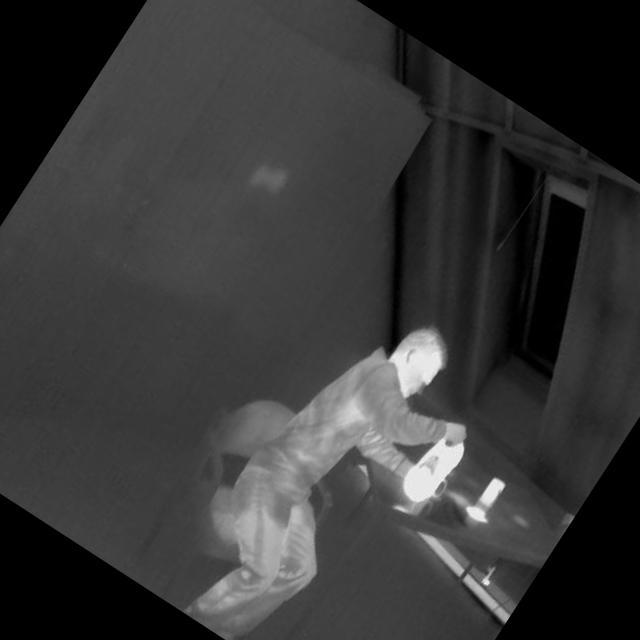person: (140, 267, 512, 640)
